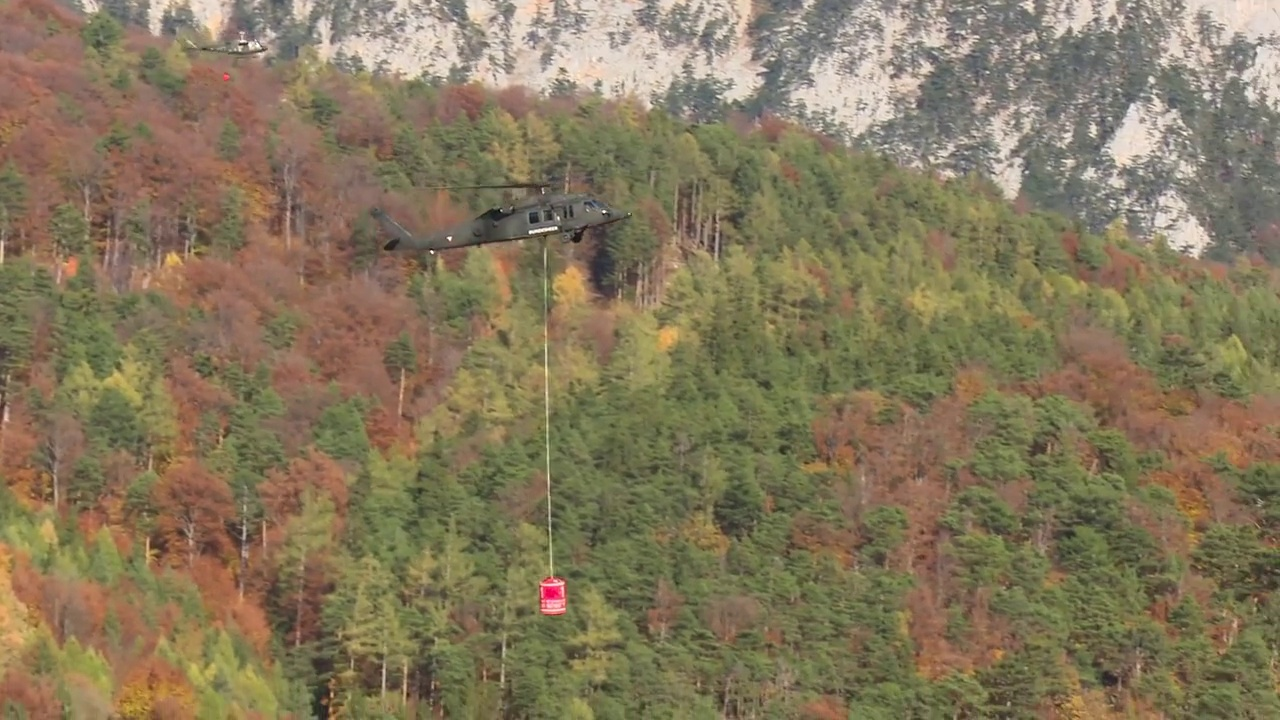heli: (370, 176, 634, 255), (183, 30, 269, 61)
